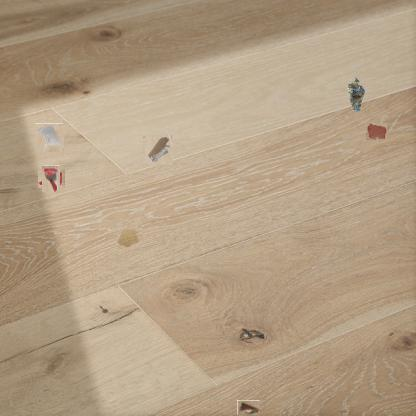dirty: (344, 75, 366, 113), (144, 136, 173, 164), (35, 124, 64, 152), (40, 168, 63, 190), (237, 400, 260, 415)
liquid: (118, 221, 144, 249), (365, 122, 387, 140)
